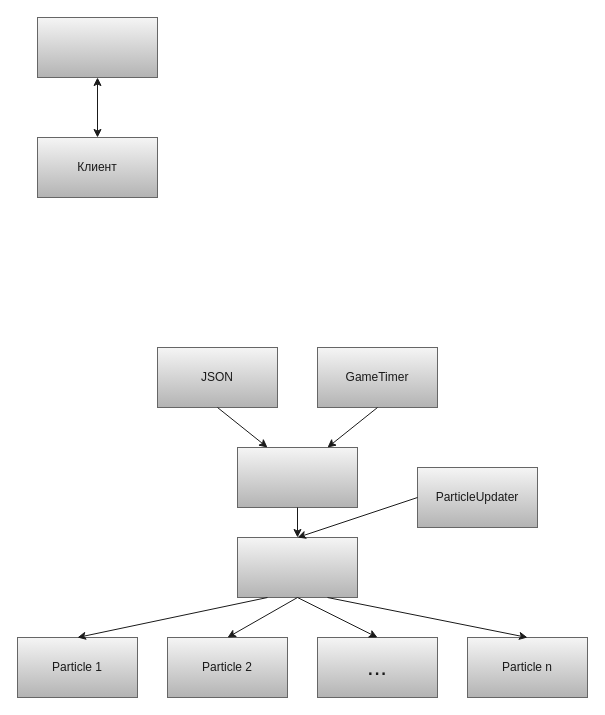
The diagram is 605 pixels wide and 715 high, and some of its shapes have lost their labels. The shapes that lost their labels are listed below. From the top down, each one's centre as x and y in pixels, then its label:
At pixel 97 47: "Сервер".
At pixel 297 477: "ParticleSystem".
At pixel 297 567: "ParticlePool".
